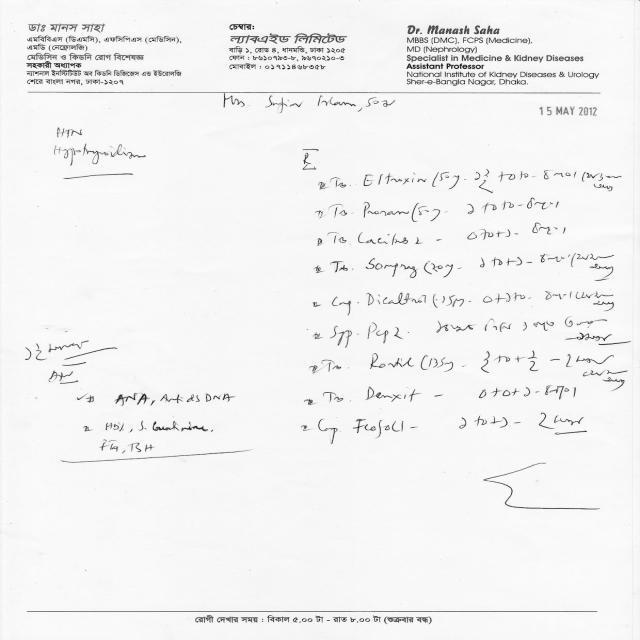medicine: (358, 169, 434, 189), (362, 290, 428, 308), (362, 384, 420, 404), (355, 200, 412, 220), (364, 256, 421, 276), (352, 416, 406, 434), (366, 352, 418, 370), (363, 323, 393, 340)
